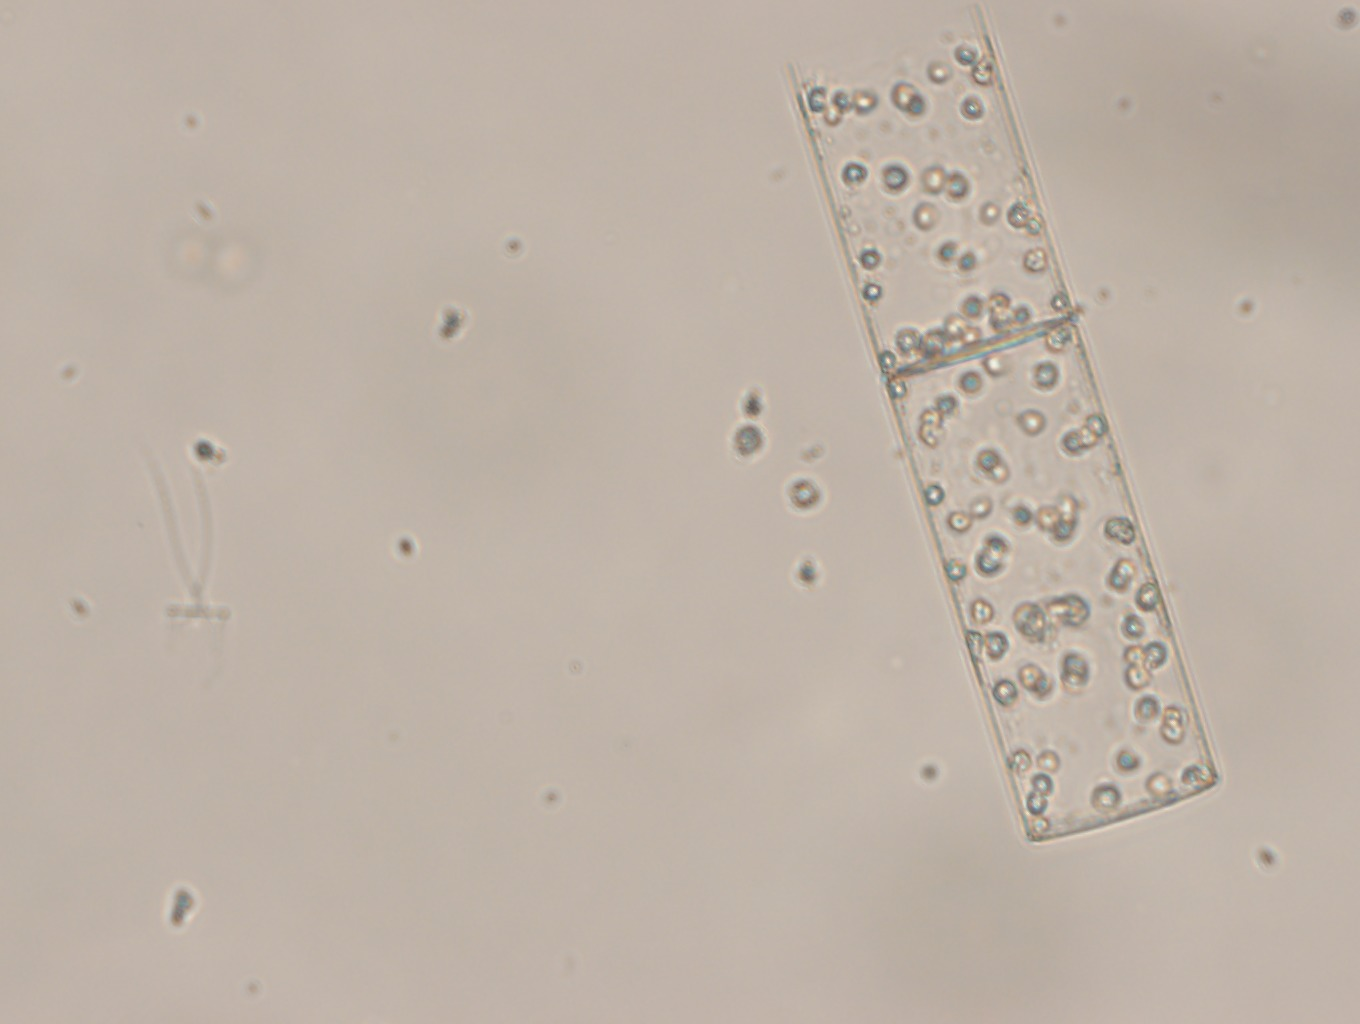guinardia flaccida: (768, 9, 1228, 849)
